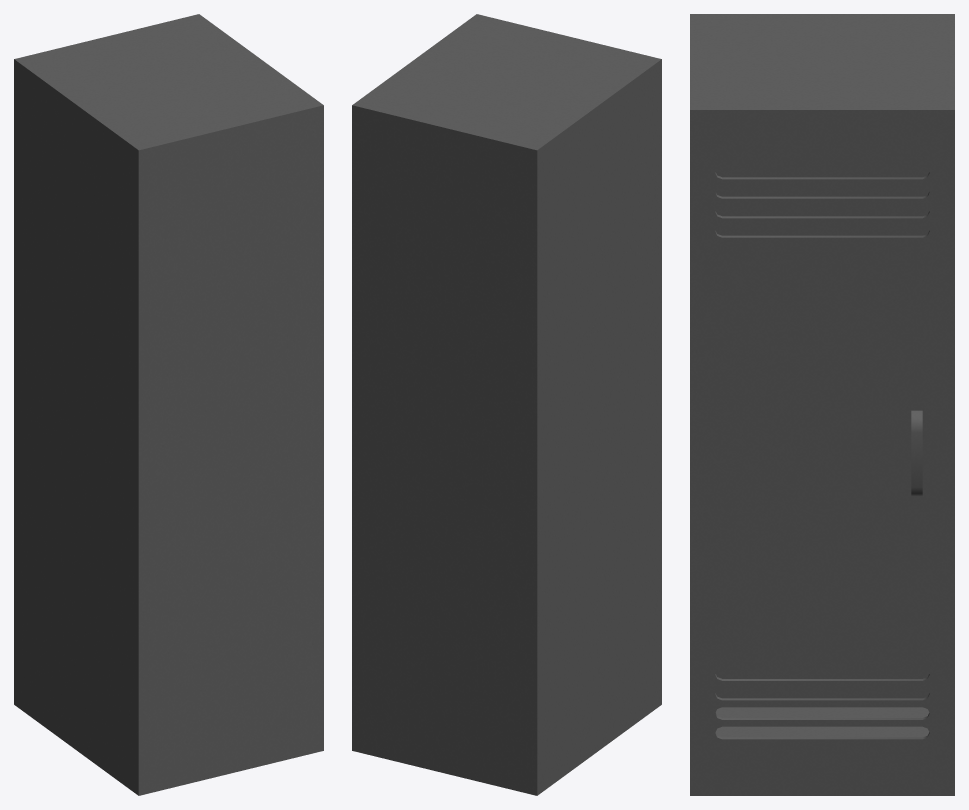
Rendered from locker.obj.
The picture shows the model from 3 angles, left to right: view 1: azimuth 30°, elevation 25°; view 2: azimuth 150°, elevation 25°; view 3: azimuth 270°, elevation 25°; orthographic projection. The views are drawn at different scales.
Visible parts, largest first — view 1: locker; view 2: locker; view 3: locker_door, locker.
Boxes of the visible parts, box(x1,y1,x2,y2) form: locker: box(14, 14, 323, 795); locker: box(352, 14, 661, 795); locker_door: box(699, 118, 945, 787); locker: box(690, 14, 954, 795).
Bounding box in the file's own units: 0.6431 × 2 × 0.7.
1 material, 1 textured.
